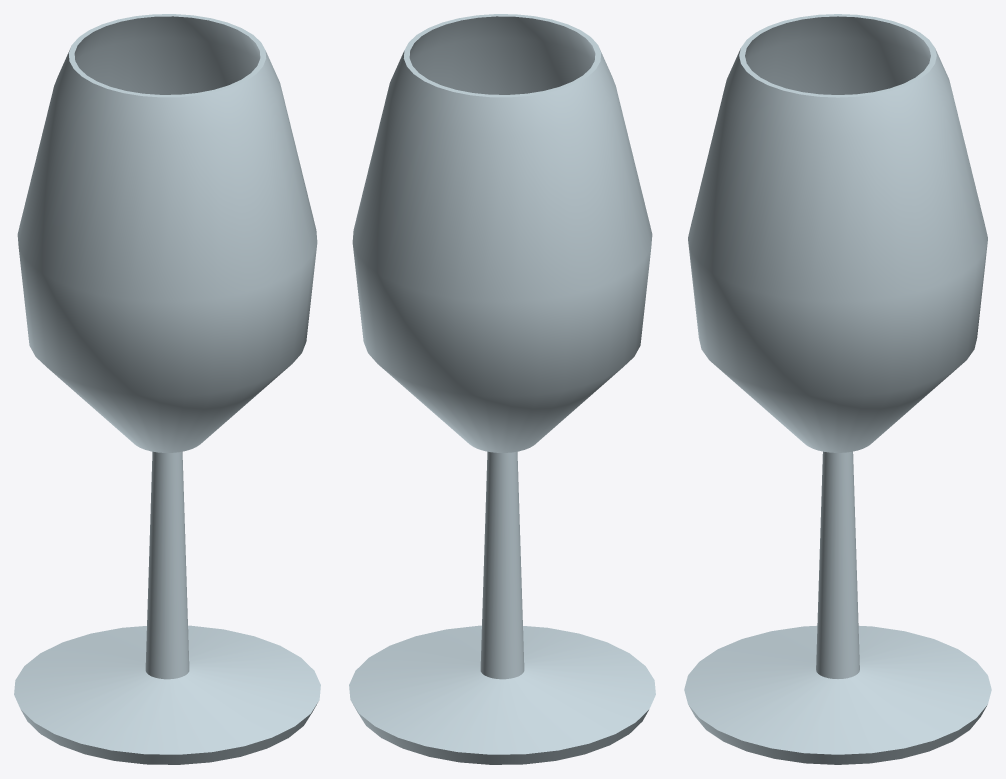
The model's file is cocktail_wine_glass_red.glb.
3 views of the same model, side by side, from view 1: azimuth 30°, elevation 25°; view 2: azimuth 150°, elevation 25°; view 3: azimuth 270°, elevation 25° (orthographic).
Parts seen in each view (by area): view 1: cocktail_wine_glass_red; view 2: cocktail_wine_glass_red; view 3: cocktail_wine_glass_red.
Part boxes in pixels (x1=…): cocktail_wine_glass_red: x1=14, y1=14, x2=320, y2=764; cocktail_wine_glass_red: x1=349, y1=14, x2=655, y2=764; cocktail_wine_glass_red: x1=684, y1=14, x2=991, y2=764.
Size of the model in its own units: 0.084 by 0.195 by 0.084.
